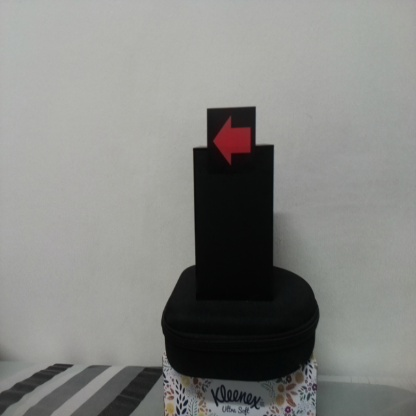id_4: (207, 108, 257, 173)
